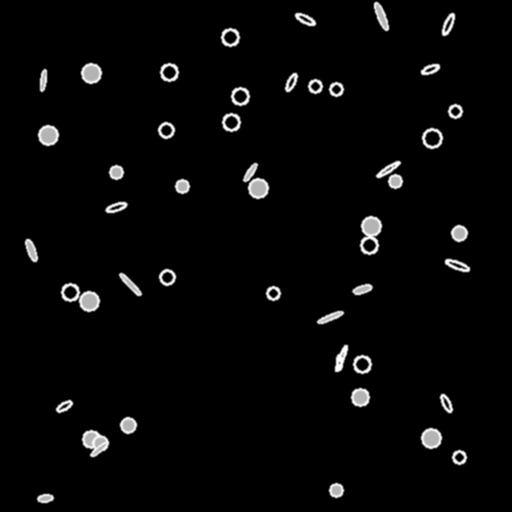pseudomonas: (119, 272, 141, 296), (373, 1, 389, 31), (376, 160, 400, 178), (317, 309, 343, 325), (444, 258, 470, 272), (334, 345, 348, 371), (89, 440, 109, 458), (441, 12, 455, 36), (24, 238, 38, 262), (242, 162, 258, 182), (439, 393, 453, 413), (284, 72, 298, 92), (295, 12, 315, 26), (105, 201, 127, 213), (55, 399, 73, 413), (421, 63, 439, 75), (353, 284, 371, 294), (39, 70, 47, 90), (37, 494, 53, 502), (336, 354, 342, 370)
synechocystis: (422, 429, 440, 447), (39, 126, 57, 144), (80, 292, 98, 310), (82, 64, 100, 82), (423, 129, 441, 147), (249, 179, 267, 197), (362, 217, 380, 235), (354, 356, 370, 372), (62, 284, 78, 300), (222, 29, 238, 45), (161, 64, 177, 80), (83, 431, 99, 447), (352, 389, 368, 405), (361, 237, 377, 253), (232, 88, 248, 104), (223, 114, 239, 130), (452, 226, 466, 240), (121, 418, 135, 432), (159, 123, 173, 137), (160, 270, 174, 284), (93, 436, 107, 450), (267, 287, 279, 299), (389, 175, 401, 187), (110, 166, 122, 178), (449, 105, 461, 117), (330, 83, 342, 95), (330, 484, 342, 496), (453, 451, 465, 463), (176, 180, 188, 192), (309, 80, 321, 92)
